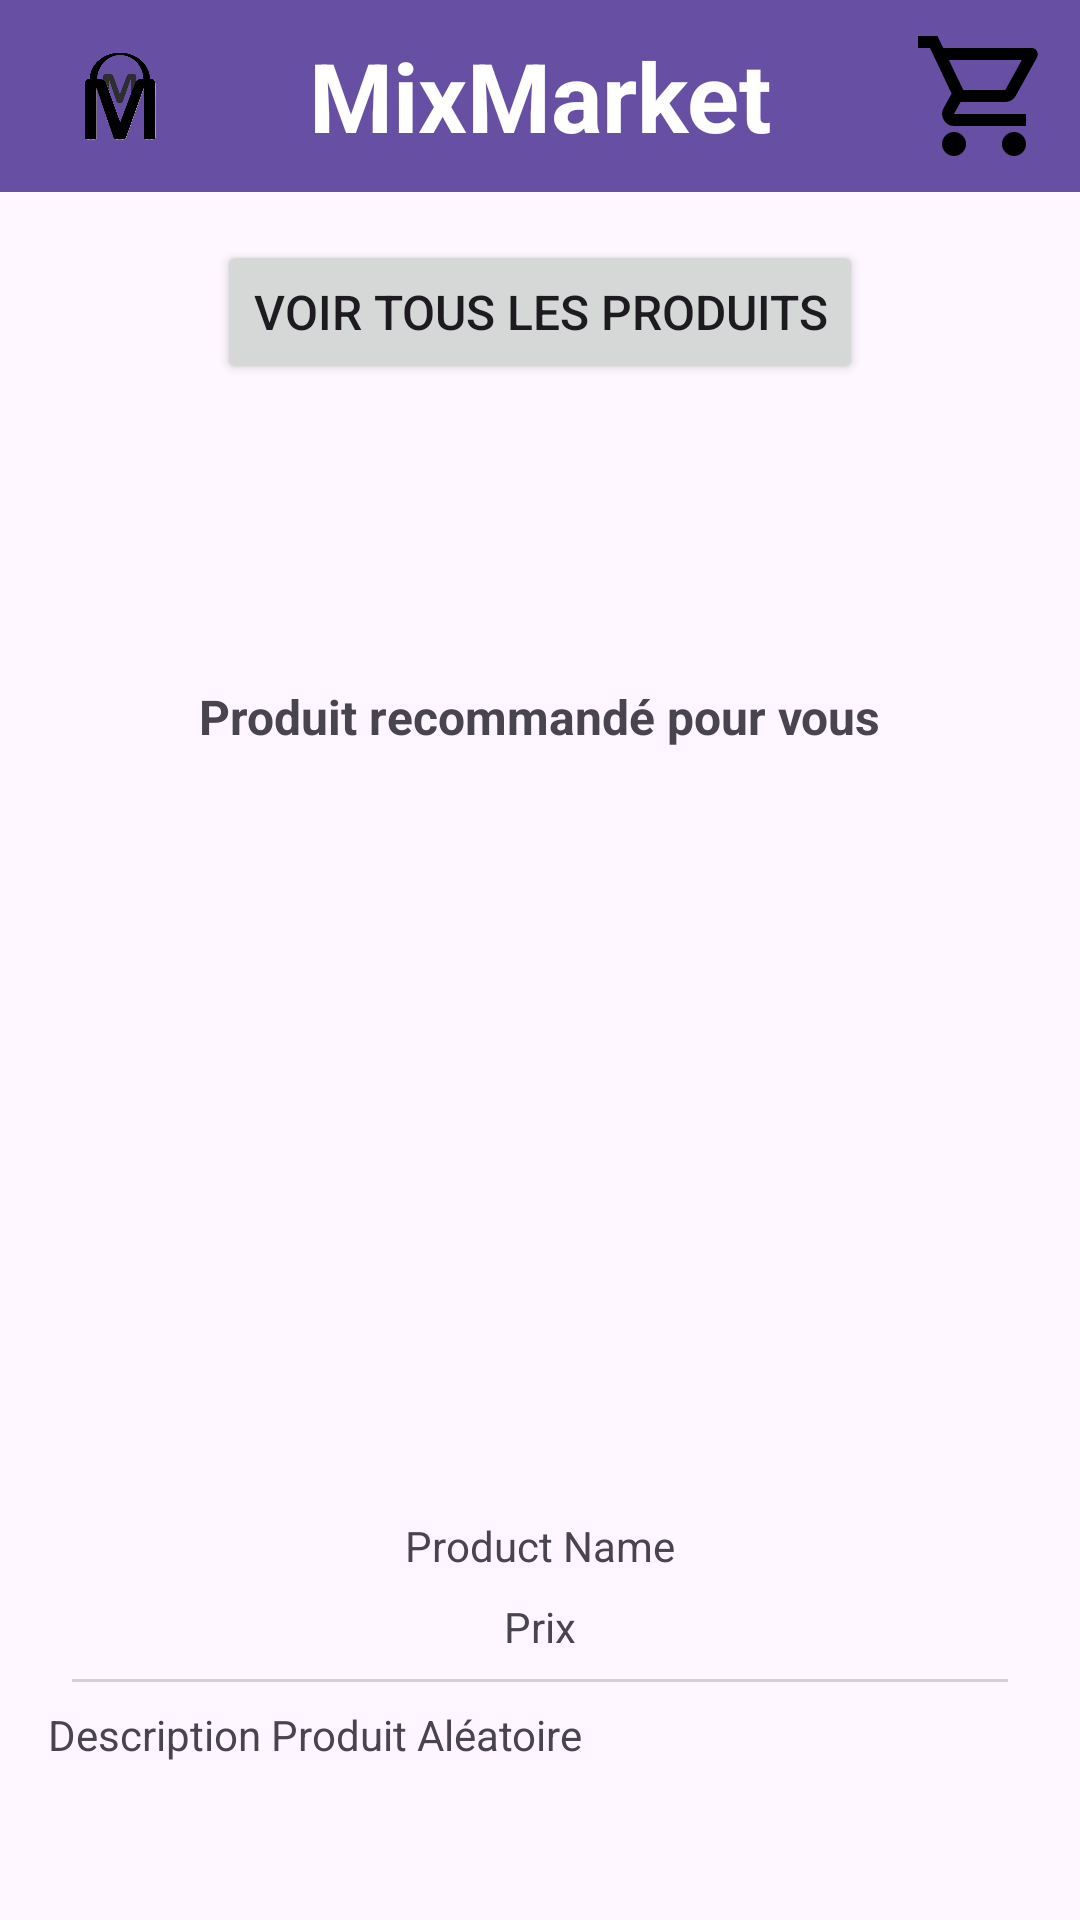

Point at icon controls on the screen. Image size 1080 × 1920, points as [x,y].
shopping cart: [978,96]
